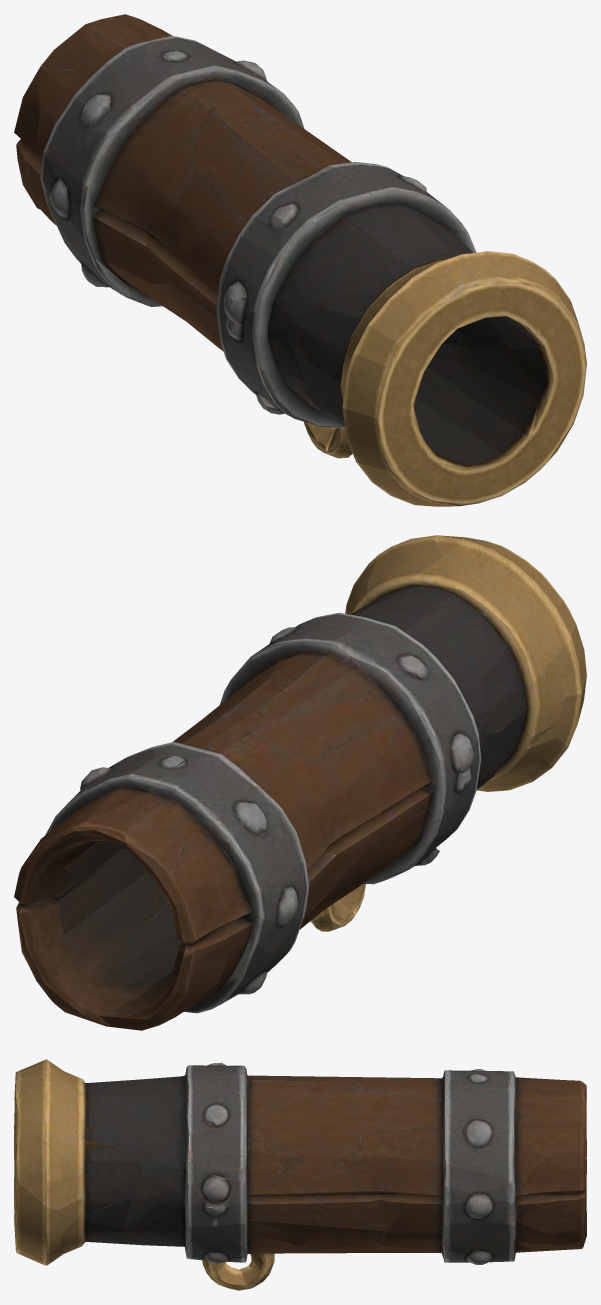
The model's file is minion_cannon.glb.
3 renders of one model, top to bottom at view 1: azimuth 30°, elevation 25°; view 2: azimuth 150°, elevation 25°; view 3: azimuth 270°, elevation 25°, orthographic. The views are drawn at different scales.
Size of the model in its own units: 0.3823 by 0.4418 by 1.04.
Materials: 1 (1 with a texture image).
